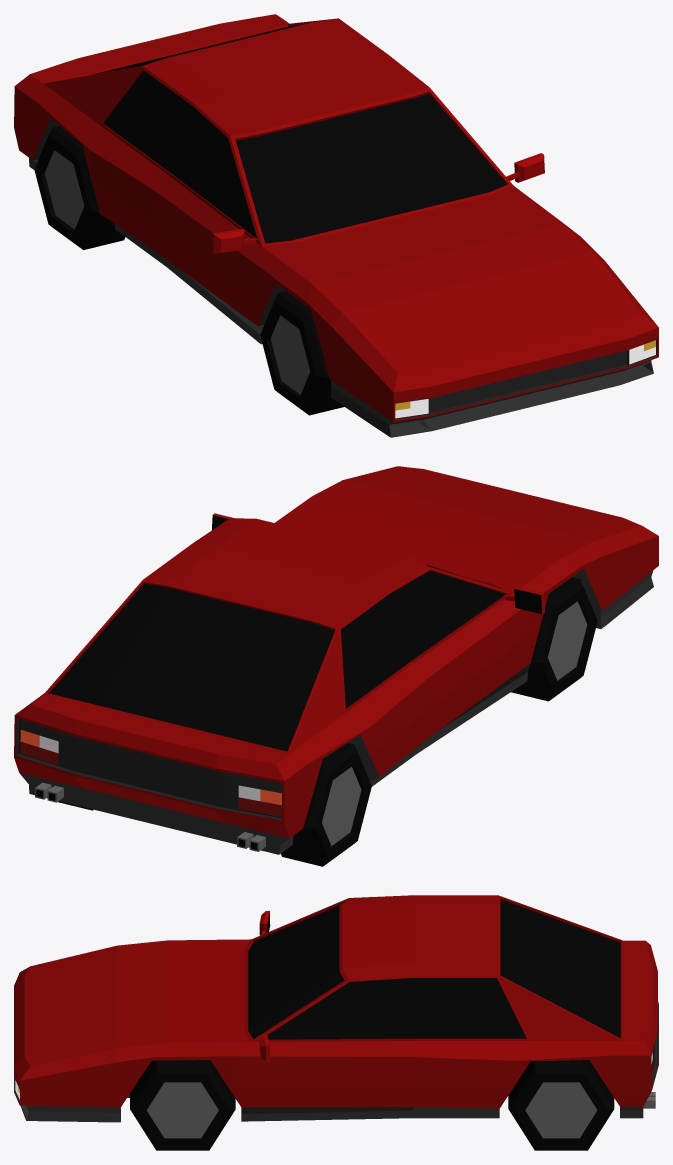
3 views of the same model, one above another, from view 1: azimuth 30°, elevation 25°; view 2: azimuth 150°, elevation 25°; view 3: azimuth 270°, elevation 25° (orthographic). The views are drawn at different scales.
Parts seen in each view (by area): view 1: Car; view 2: Car; view 3: Car.
Part boxes in pixels (x1,y1,x2,y2): Car: (14,14,658,437); Car: (14,466,658,866); Car: (14,895,658,1150).
Bounding box in the file's own units: 200 × 111 × 402.
2 materials, 2 textured.
